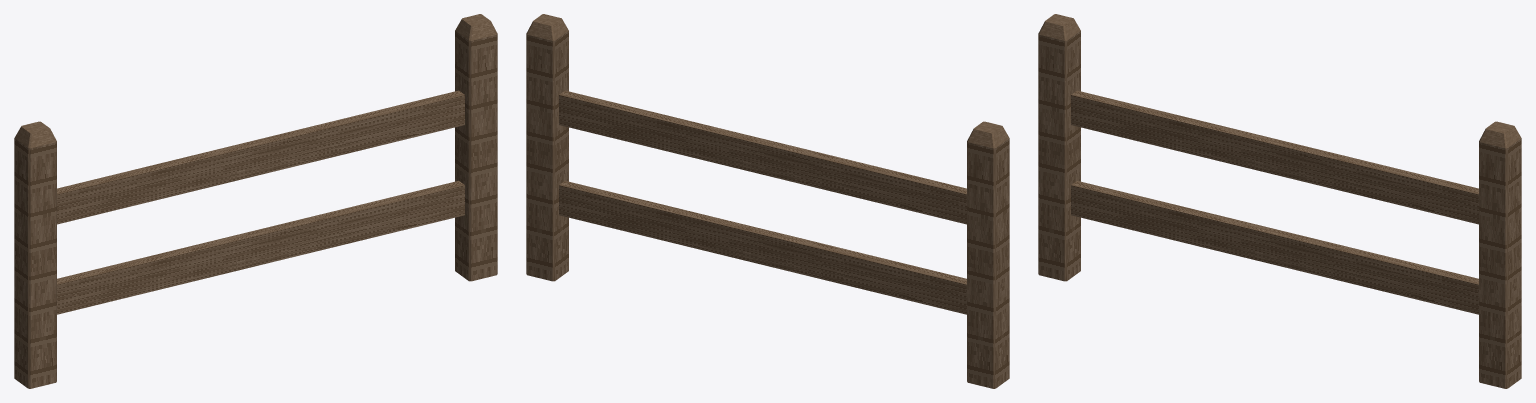
The model's file is fence_segment.glb.
3 renders of one model, left to right at view 1: azimuth 30°, elevation 25°; view 2: azimuth 150°, elevation 25°; view 3: azimuth 330°, elevation 25°, orthographic.
Visible parts, largest first — view 1: Body; view 2: Body; view 3: Body.
Boxes of the visible parts, box(x1,y1,x2,y2) form: Body: box(14, 14, 497, 388); Body: box(526, 14, 1009, 388); Body: box(1038, 14, 1521, 388).
Size of the model in its own units: 2.45 by 1.26 by 0.14.
Materials: 1 (1 with a texture image).
